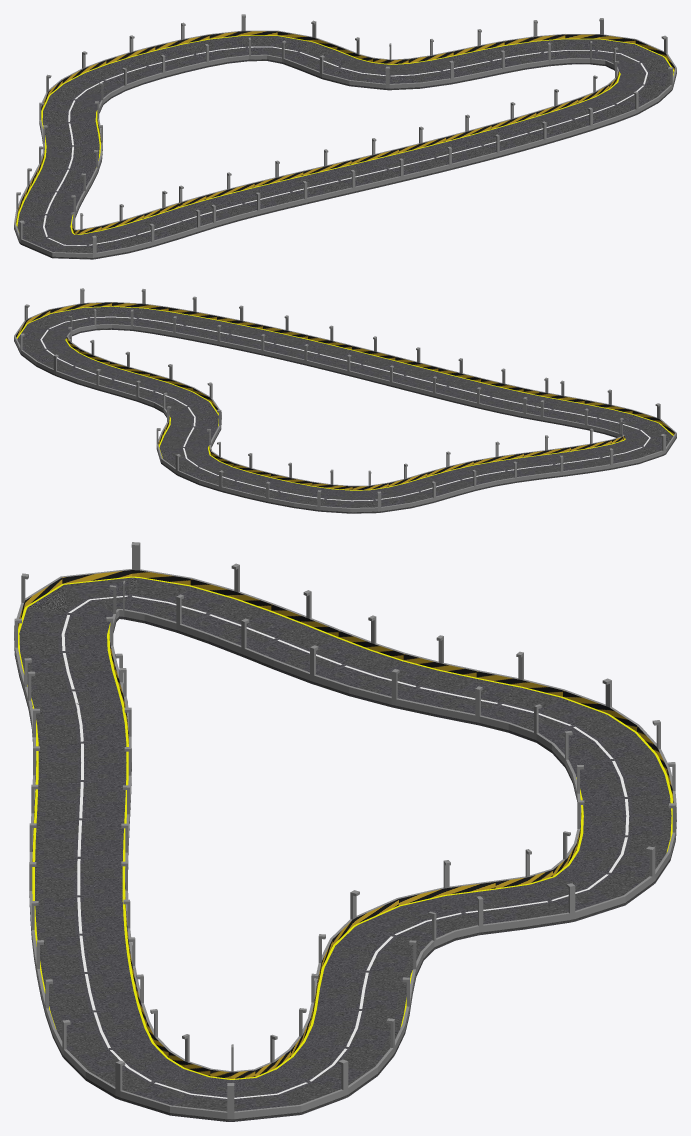
The model's file is Track001.fbx.
3 renders of one model, top to bottom at view 1: azimuth 30°, elevation 25°; view 2: azimuth 150°, elevation 25°; view 3: azimuth 270°, elevation 25°, orthographic. The views are drawn at different scales.
Parts seen in each view (by area): view 1: Road, Barrier; view 2: Road, Barrier; view 3: Road, Barrier.
Boxes of the visible parts, left/top/right/bottom form: Road: left=14, top=35, right=676, bottom=259; Barrier: left=14, top=14, right=676, bottom=257; Road: left=14, top=306, right=676, bottom=513; Barrier: left=14, top=288, right=676, bottom=512; Road: left=14, top=576, right=676, bottom=1121; Barrier: left=14, top=542, right=676, bottom=1119.
Bounding box in the file's own units: 9283 × 286 × 4781.
2 materials, 2 textured.
